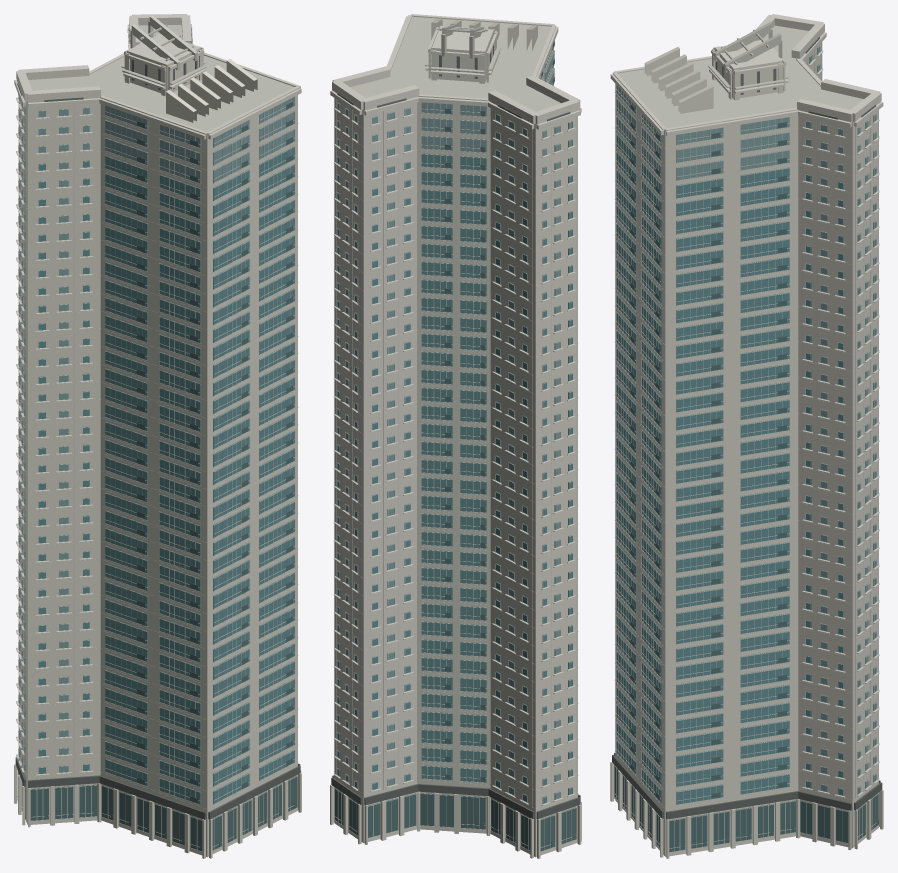
Rendered from bespoke-mokdong-hyperion-2-202.glb.
The picture shows the model from 3 angles, left to right: view 1: azimuth 30°, elevation 25°; view 2: azimuth 150°, elevation 25°; view 3: azimuth 270°, elevation 25°; orthographic projection.
Visible parts, largest first — view 1: 202_sourceplate_stone, 202_face_specific_windows003_1, 202_face_specific_windows003_3, 202_face_specific_windows003_2, 202_face_specific_windows003, 202_crown_sloping_blades_and_stone_gallery003, 202_face_specific_windows003_6, 202_face_specific_windows003_5, 202_crown_sloping_blades_and_stone_gallery003_1, 202_face_specific_windows003_4; view 2: 202_sourceplate_stone, 202_face_specific_windows003_1, 202_face_specific_windows003, 202_face_specific_windows003_3, 202_face_specific_windows003_6, 202_face_specific_windows003_5, 202_crown_sloping_blades_and_stone_gallery003_1, 202_crown_sloping_blades_and_stone_gallery003, 202_face_specific_windows003_2, 202_face_specific_windows003_4; view 3: 202_sourceplate_stone, 202_face_specific_windows003_1, 202_face_specific_windows003_3, 202_face_specific_windows003_2, 202_face_specific_windows003, 202_face_specific_windows003_5, 202_crown_sloping_blades_and_stone_gallery003, 202_face_specific_windows003_6, 202_crown_sloping_blades_and_stone_gallery003_1, 202_face_specific_windows003_4.
Part boxes in pixels (bbox=[...]): 202_sourceplate_stone: bbox=[19, 95, 297, 857]; 202_face_specific_windows003_1: bbox=[19, 145, 294, 804]; 202_face_specific_windows003_3: bbox=[17, 94, 297, 851]; 202_face_specific_windows003_2: bbox=[18, 101, 297, 851]; 202_face_specific_windows003: bbox=[14, 24, 301, 858]; 202_crown_sloping_blades_and_stone_gallery003: bbox=[16, 14, 299, 134]; 202_face_specific_windows003_6: bbox=[19, 97, 294, 772]; 202_face_specific_windows003_5: bbox=[18, 95, 298, 808]; 202_crown_sloping_blades_and_stone_gallery003_1: bbox=[27, 15, 294, 134]; 202_face_specific_windows003_4: bbox=[15, 757, 300, 819]; 202_sourceplate_stone: bbox=[334, 48, 577, 857]; 202_face_specific_windows003_1: bbox=[337, 153, 572, 803]; 202_face_specific_windows003: bbox=[330, 16, 581, 858]; 202_face_specific_windows003_3: bbox=[334, 40, 576, 851]; 202_face_specific_windows003_6: bbox=[337, 49, 572, 799]; 202_face_specific_windows003_5: bbox=[336, 68, 578, 808]; 202_crown_sloping_blades_and_stone_gallery003_1: bbox=[350, 16, 560, 124]; 202_crown_sloping_blades_and_stone_gallery003: bbox=[332, 14, 580, 124]; 202_face_specific_windows003_2: bbox=[334, 41, 576, 851]; 202_face_specific_windows003_4: bbox=[331, 775, 580, 819]; 202_sourceplate_stone: bbox=[615, 42, 878, 856]; 202_face_specific_windows003_1: bbox=[616, 133, 876, 804]; 202_face_specific_windows003_3: bbox=[614, 45, 879, 852]; 202_face_specific_windows003_2: bbox=[614, 104, 878, 852]; 202_face_specific_windows003: bbox=[610, 32, 883, 858]; 202_face_specific_windows003_5: bbox=[614, 42, 879, 808]; 202_crown_sloping_blades_and_stone_gallery003: bbox=[612, 14, 881, 130]; 202_face_specific_windows003_6: bbox=[616, 45, 876, 791]; 202_crown_sloping_blades_and_stone_gallery003_1: bbox=[618, 22, 863, 131]; 202_face_specific_windows003_4: bbox=[612, 753, 882, 819].
Size of the model in its own units: 41 by 135 by 42.76.
